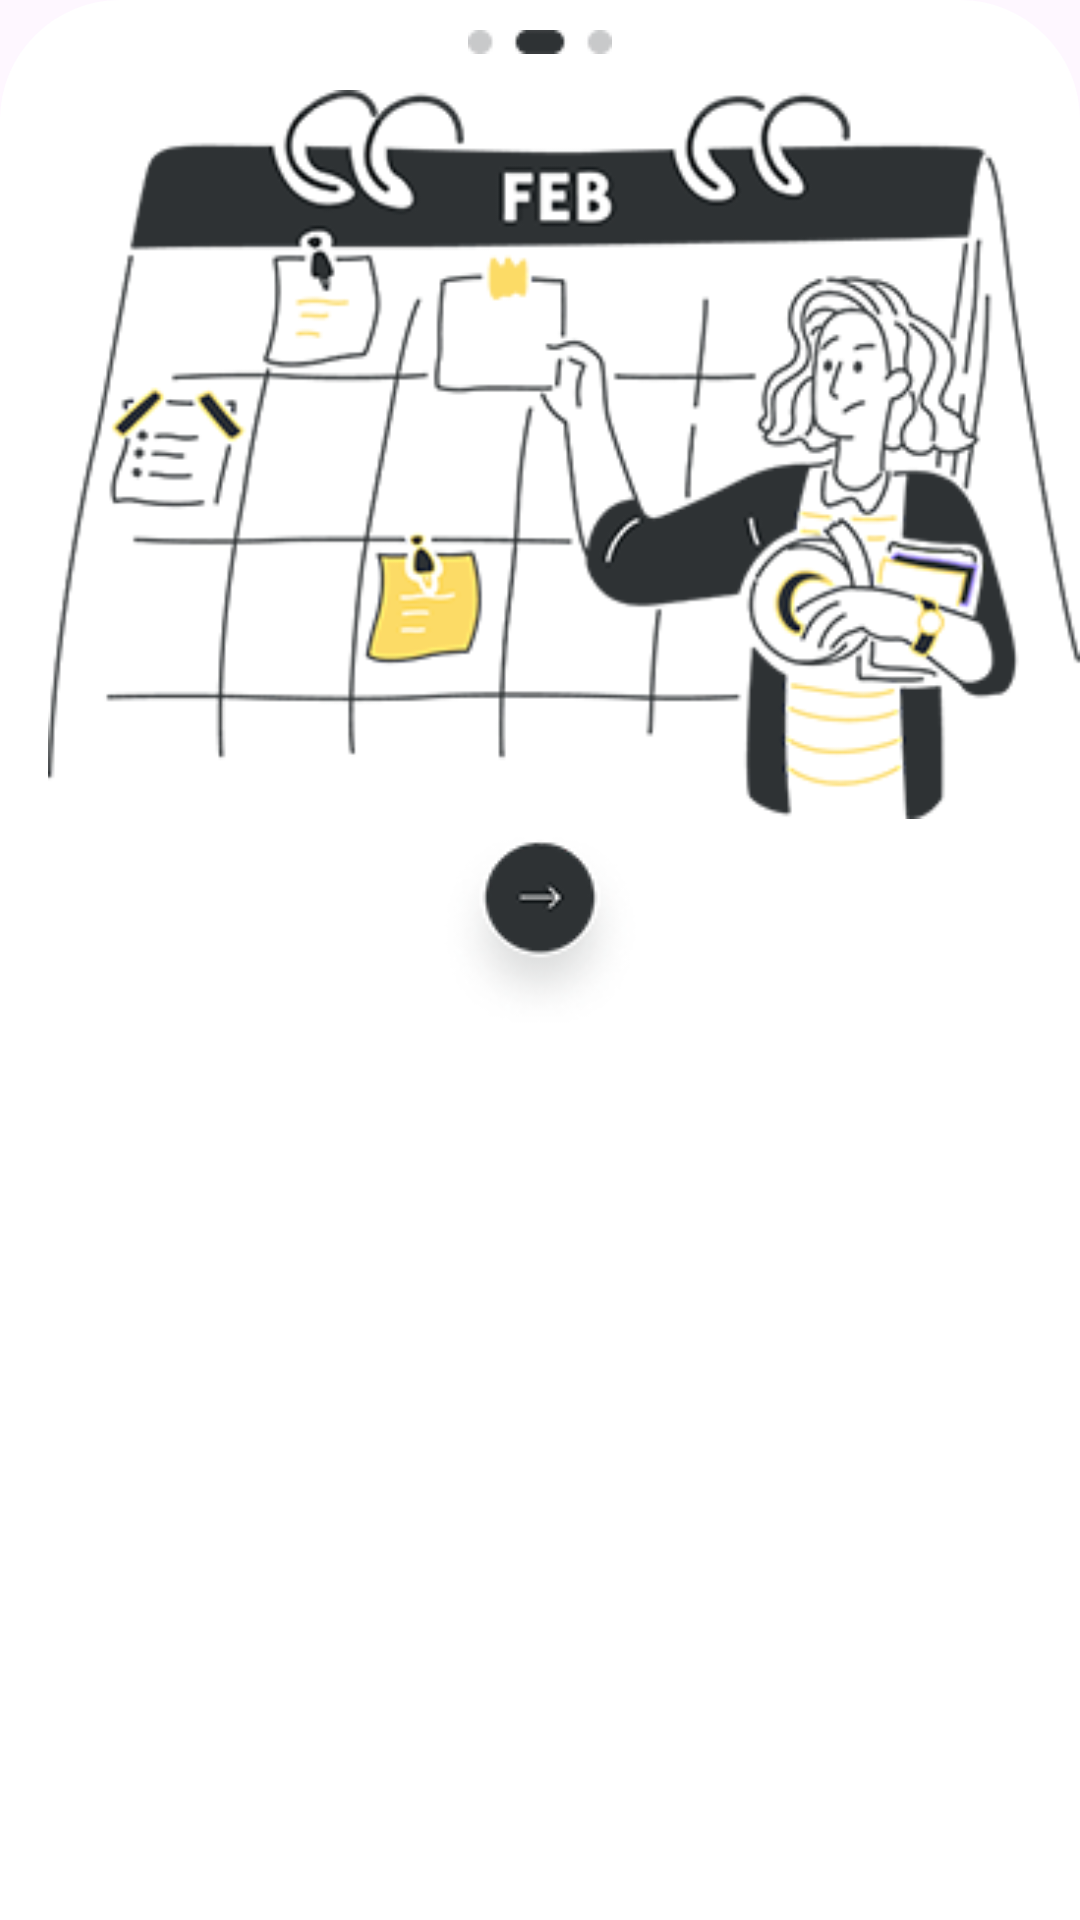

Point at icon controls on the screen. Image size 1080x1920, points as [x,y].
next: [540,907]
